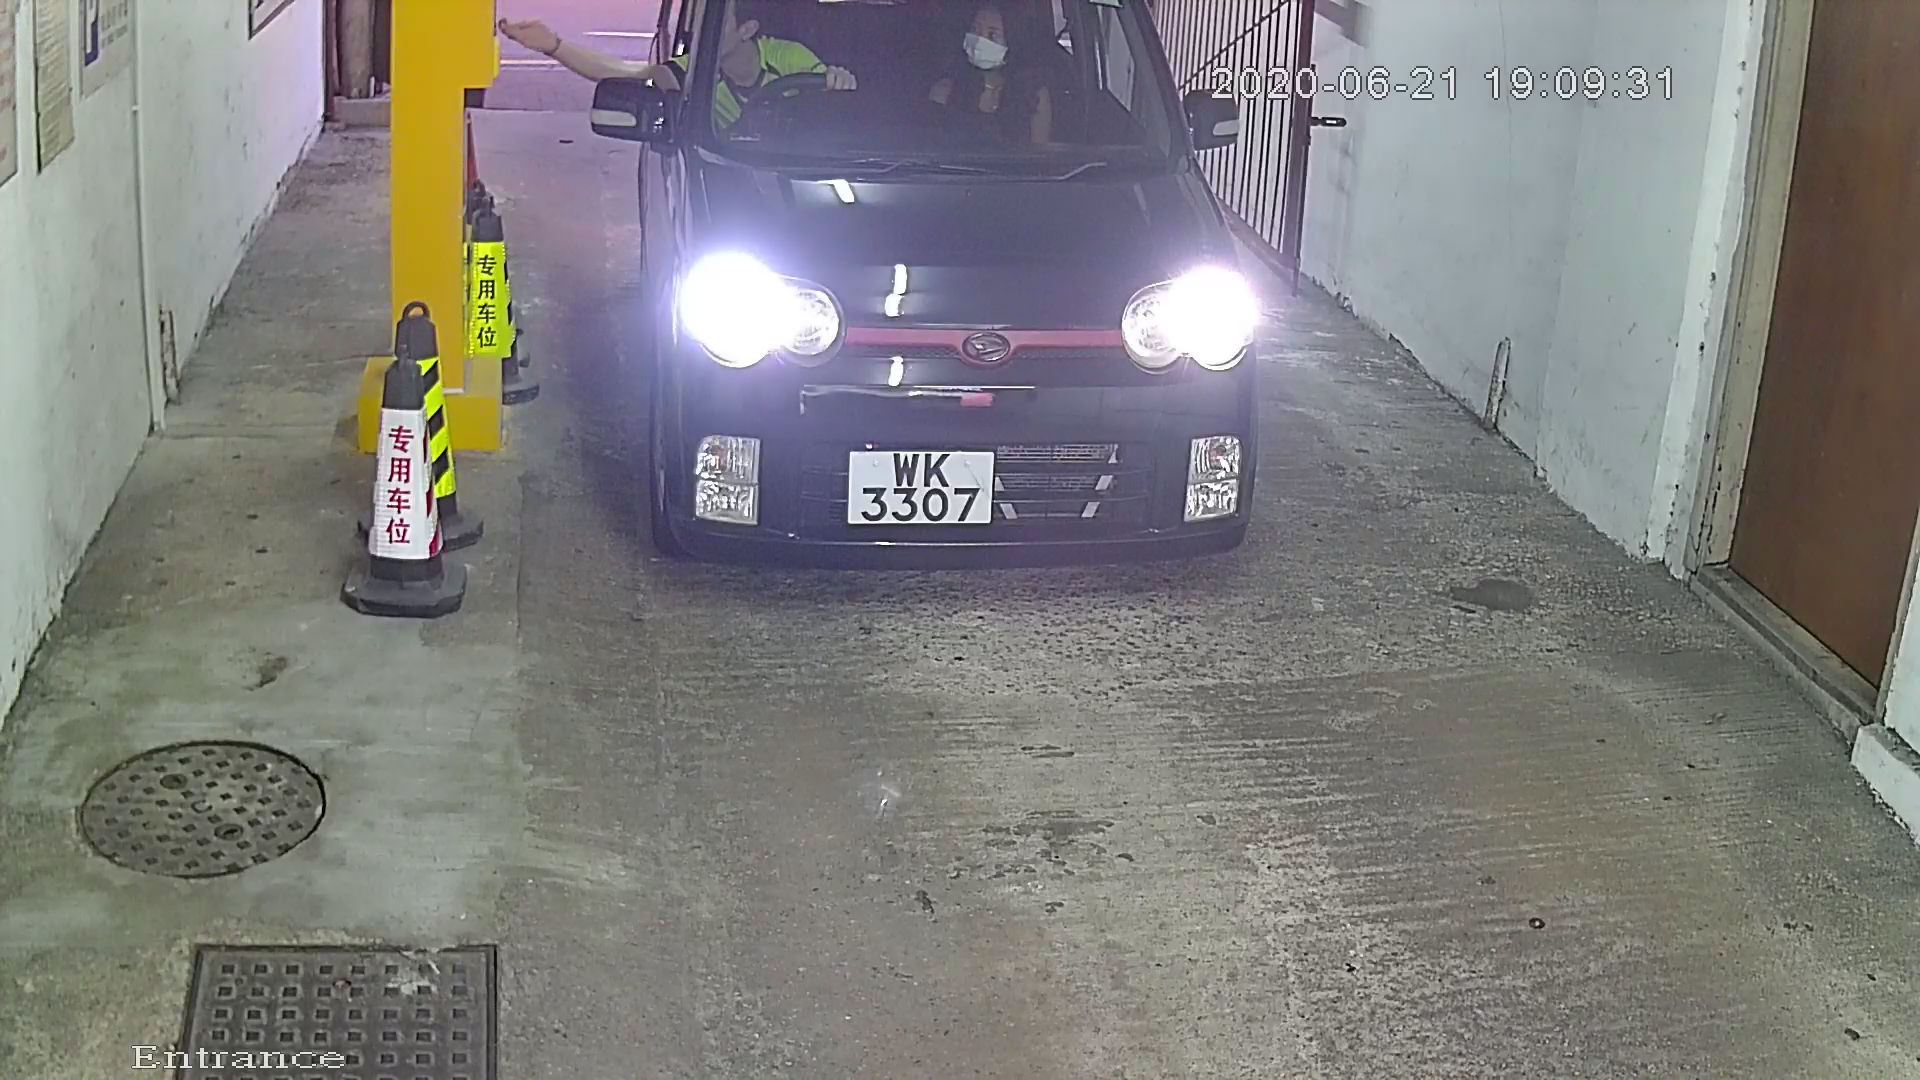privatecar: (634, 3, 1311, 601)
